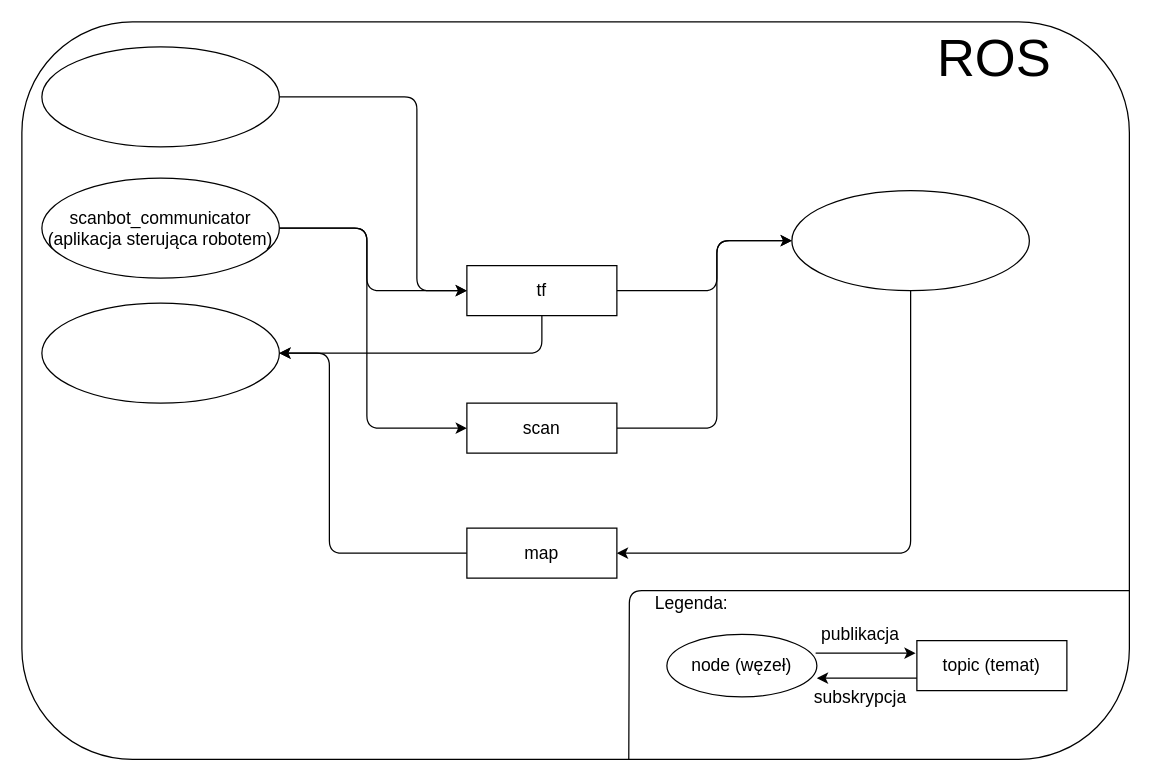
Some shapes in this 1153 by 783 pixel diagram are drawn without their labels. The shapes that lost their labels are listed below. From the top down, each one's centre as x and y in pixels, then its label:
(160,96): laser_static_pos_broadcaster
(910,240): slam_gmapping
(160,352): rviz
